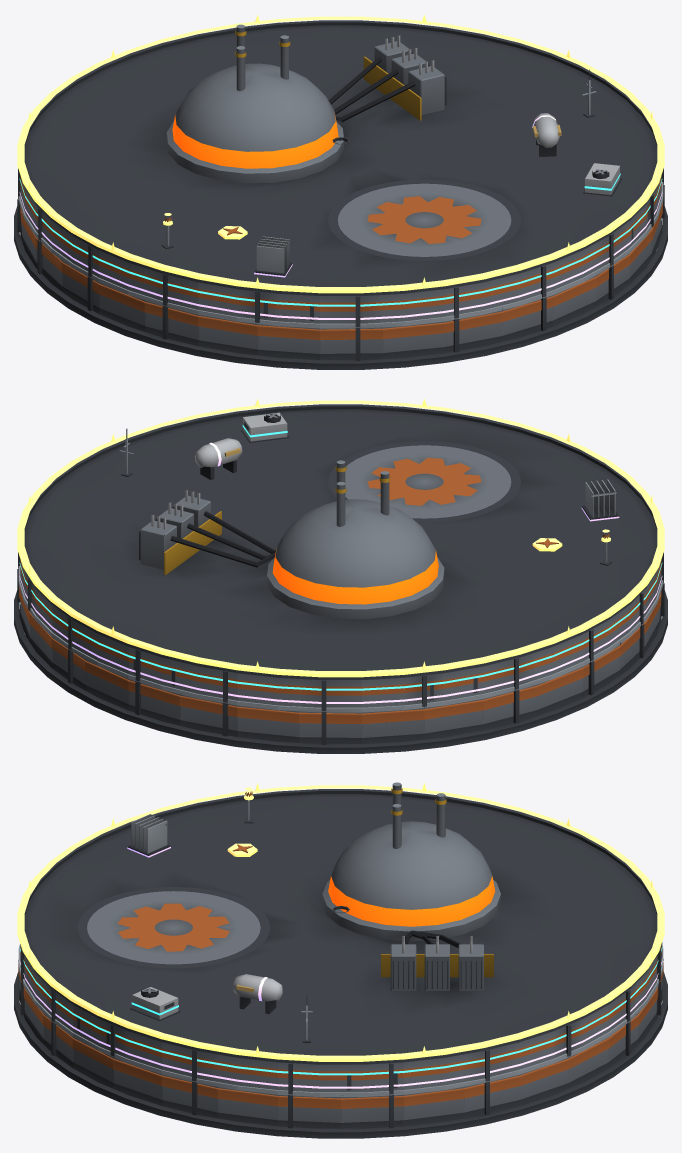
The model's file is titanium_smelter_xl_far.glb.
3 views of the same model, one above another, from view 1: azimuth 30°, elevation 25°; view 2: azimuth 150°, elevation 25°; view 3: azimuth 270°, elevation 25° (orthographic).
Parts seen in each view (by area): view 1: Roof, Base, L5, L4, L2, L3; view 2: Roof, Base, L5, L4, L2, L3; view 3: Roof, Base, L5, L4, L2, L3.
Part boxes in pixels (<box>): Roof: <box>18,20,663,327</box>; Base: <box>14,185,667,369</box>; L5: <box>17,14,664,293</box>; L4: <box>19,113,662,319</box>; L2: <box>18,69,663,328</box>; L3: <box>19,137,662,306</box>; Roof: <box>18,404,663,711</box>; Base: <box>14,569,667,753</box>; L5: <box>17,398,664,677</box>; L4: <box>19,438,662,703</box>; L2: <box>18,428,663,712</box>; L3: <box>19,412,662,690</box>; Roof: <box>20,782,662,1094</box>; Base: <box>14,959,667,1138</box>; L5: <box>17,783,664,1061</box>; L4: <box>19,814,662,1088</box>; L2: <box>18,944,663,1096</box>; L3: <box>19,906,662,1075</box>.
Bounding box in the file's own units: 23.15 × 7.07 × 23.15.
